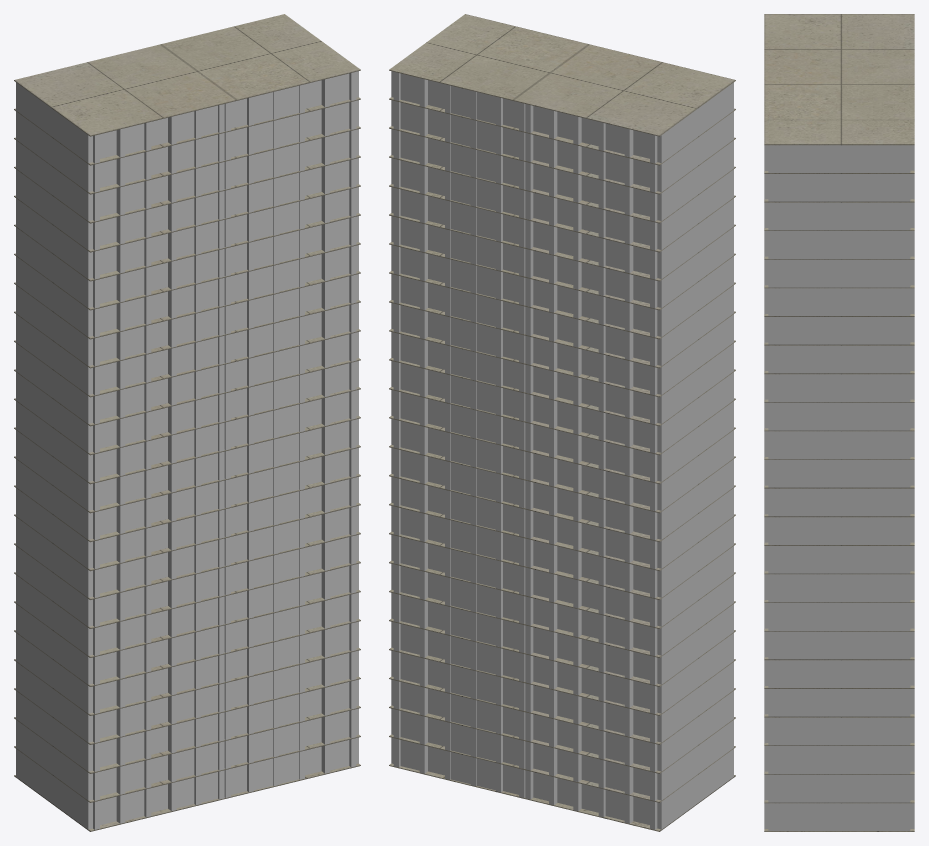
The model's file is MSH_Torre_2.FBX.
The picture shows the model from 3 angles, left to right: view 1: azimuth 30°, elevation 25°; view 2: azimuth 150°, elevation 25°; view 3: azimuth 270°, elevation 25°; orthographic projection.
Parts seen in each view (by area): view 1: MSH_Torre_2; view 2: MSH_Torre_2; view 3: MSH_Torre_2.
Part boxes in pixels (x1,y1,x2,y2): MSH_Torre_2: (14, 14, 360, 831); MSH_Torre_2: (389, 14, 735, 831); MSH_Torre_2: (764, 14, 914, 831).
Size of the model in its own units: 3226 by 7930 by 1573.
